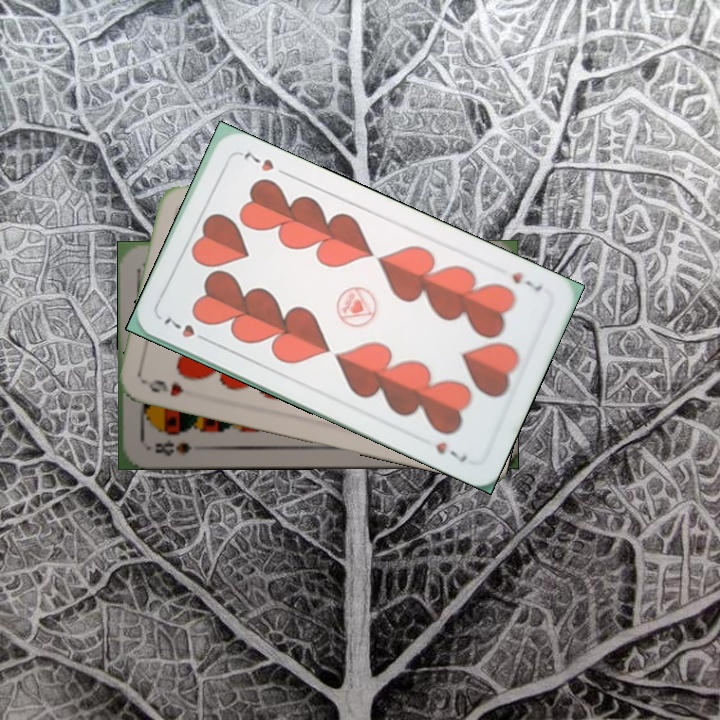H7: (159, 310, 213, 345), (507, 267, 545, 295)
H9: (144, 375, 187, 399)
S8: (151, 436, 194, 459)
